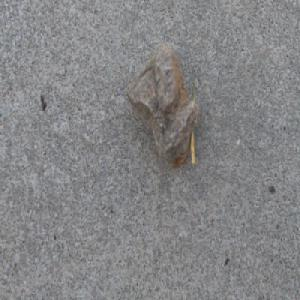Rock: (123, 40, 199, 170)
